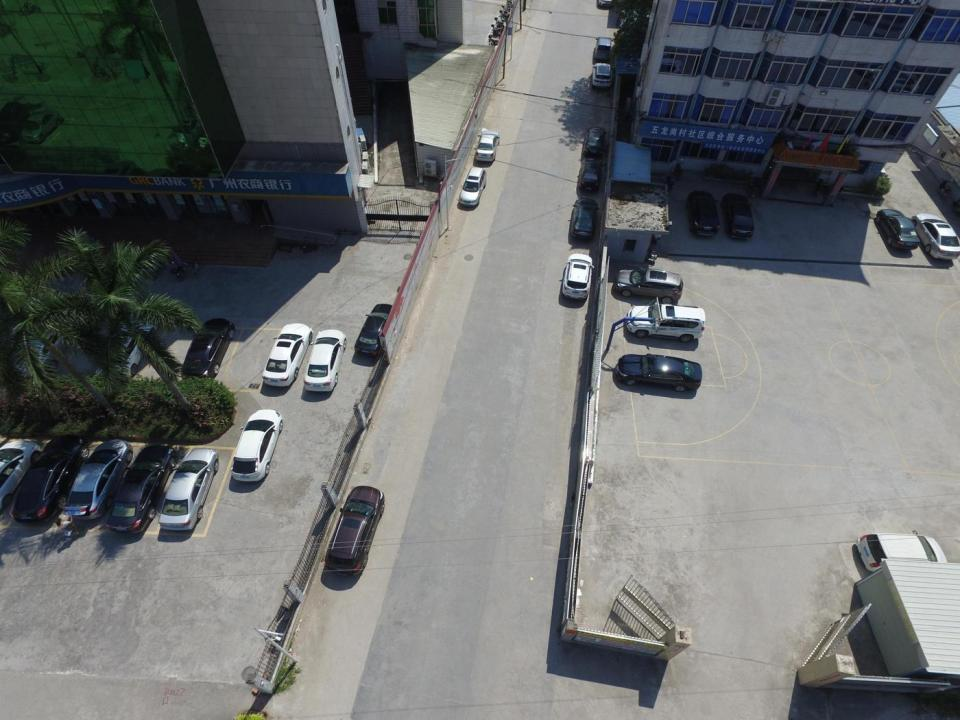car: (9, 436, 92, 528), (102, 444, 178, 534), (62, 439, 133, 522), (325, 484, 384, 576), (158, 447, 219, 530), (91, 318, 158, 387), (230, 408, 283, 483), (12, 314, 72, 379), (856, 530, 948, 571), (260, 323, 314, 386), (181, 318, 234, 381), (614, 354, 702, 390), (303, 328, 347, 393), (625, 304, 705, 339), (0, 441, 41, 508), (617, 267, 683, 302), (913, 212, 960, 260), (354, 303, 395, 357), (875, 208, 920, 250), (561, 252, 594, 299), (686, 189, 719, 235), (722, 194, 755, 240), (571, 197, 600, 240), (576, 156, 601, 193), (474, 131, 500, 161), (582, 125, 608, 155), (590, 62, 612, 87)
van: (458, 167, 486, 208), (594, 37, 611, 62)
